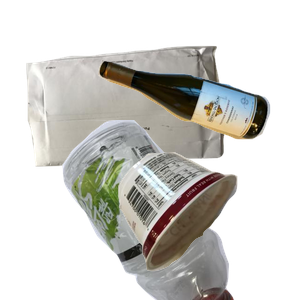glass: (95, 57, 300, 189)
paper: (24, 43, 242, 202)
plastic: (25, 120, 252, 300)
trash: (116, 149, 300, 300)
